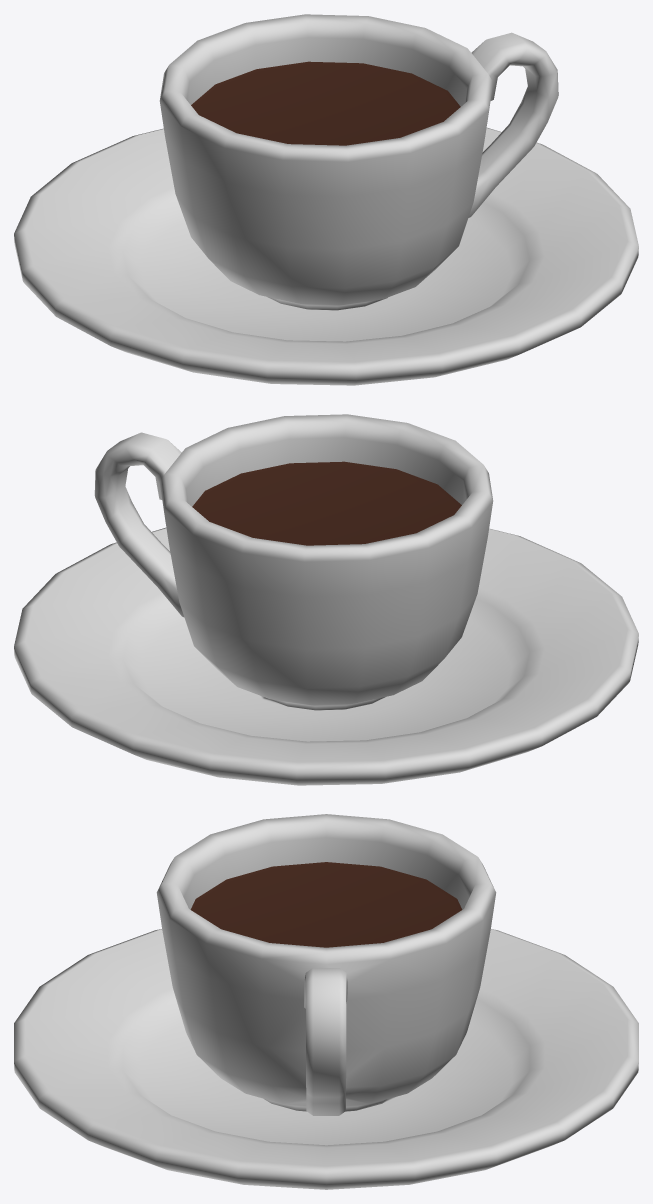
The model's file is CoffeeCup.glb.
The picture shows the model from 3 angles, top to bottom: view 1: azimuth 30°, elevation 25°; view 2: azimuth 150°, elevation 25°; view 3: azimuth 270°, elevation 25°; orthographic projection.
Visible parts, largest first — view 1: cup__mReBody, Coffee__mCoffee; view 2: cup__mReBody, Coffee__mCoffee; view 3: cup__mReBody, Coffee__mCoffee.
Part boxes in pixels (x1,y1,x2,y2): cup__mReBody: (14,14,638,385); Coffee__mCoffee: (191,61,460,145); cup__mReBody: (14,414,638,785); Coffee__mCoffee: (192,461,461,545); cup__mReBody: (14,814,638,1189); Coffee__mCoffee: (190,862,462,947).
Bounding box in the file's own units: 0.4418 × 0.1858 × 0.4373.
Materials: 2 (1 with a texture image).
